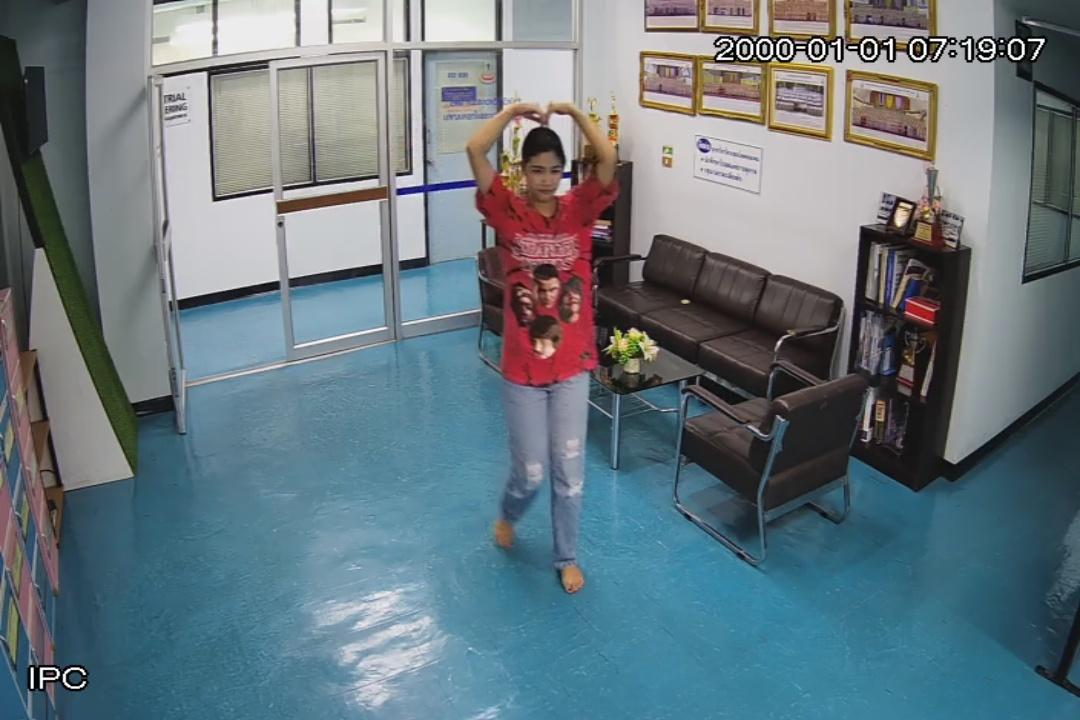normal: (468, 90, 617, 604)
